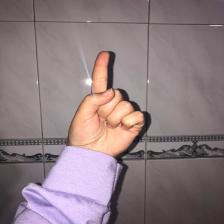one: (70, 50, 150, 159)
